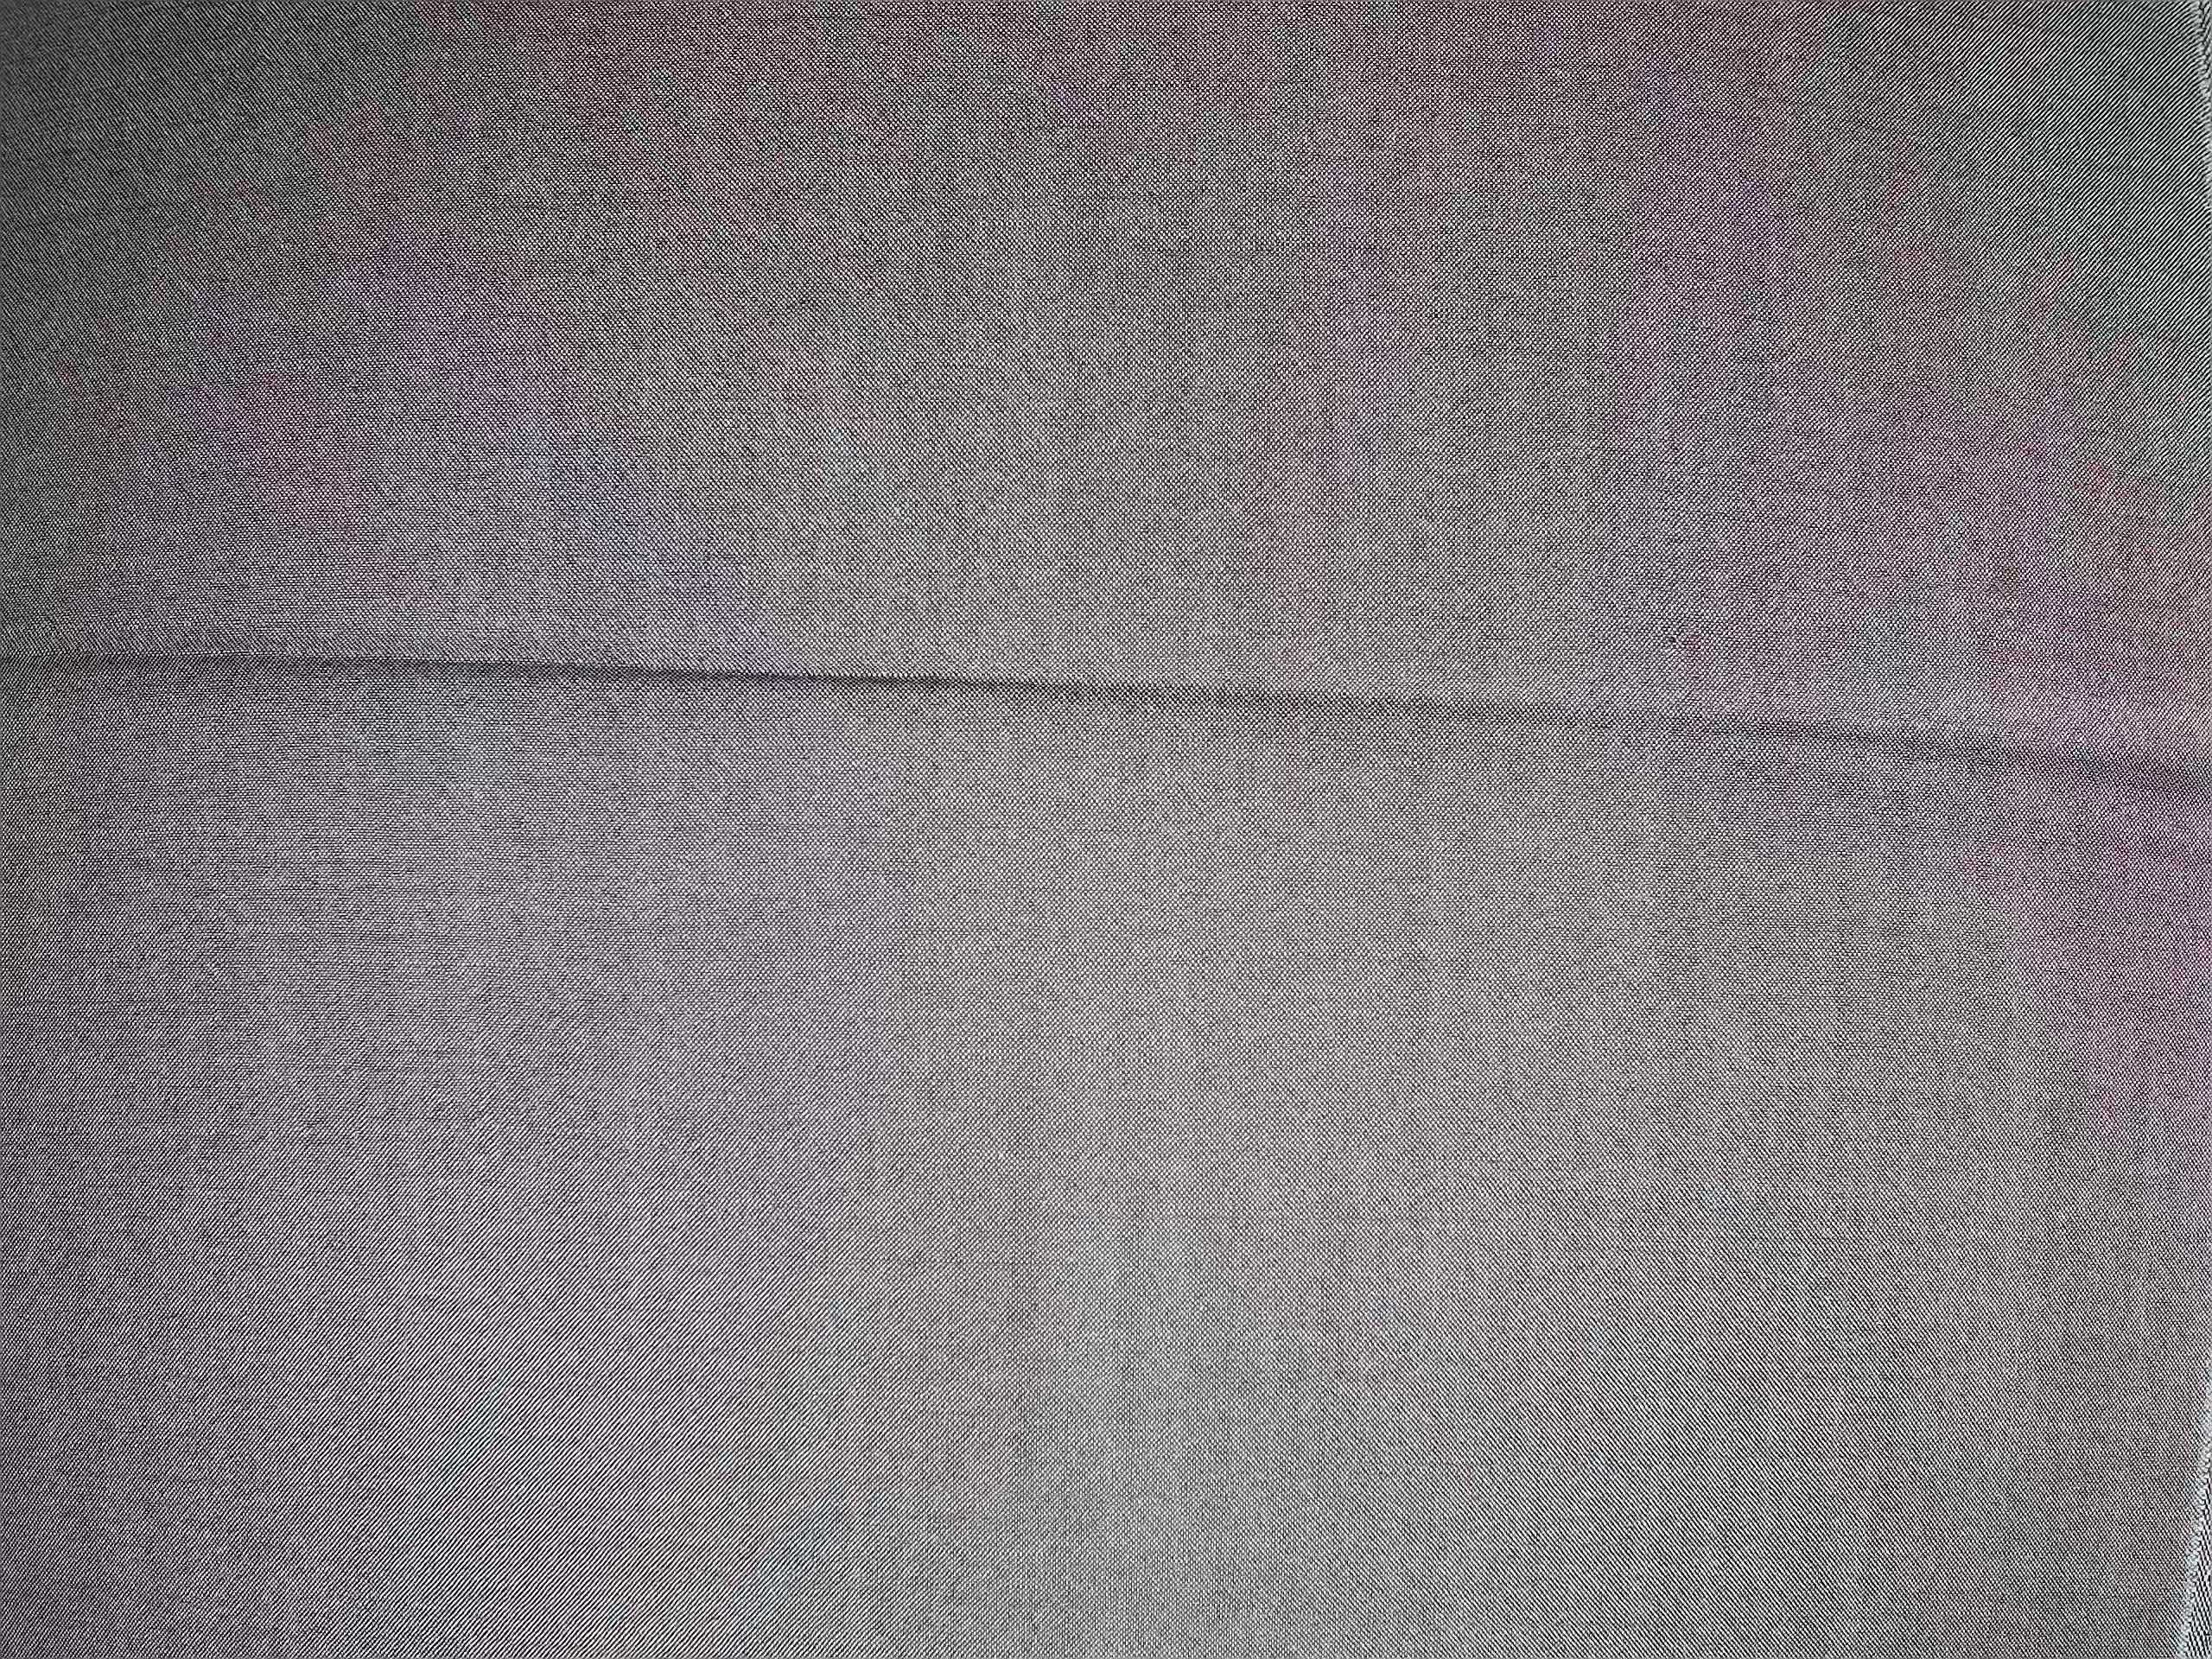stains: (646, 263, 1818, 1417)
